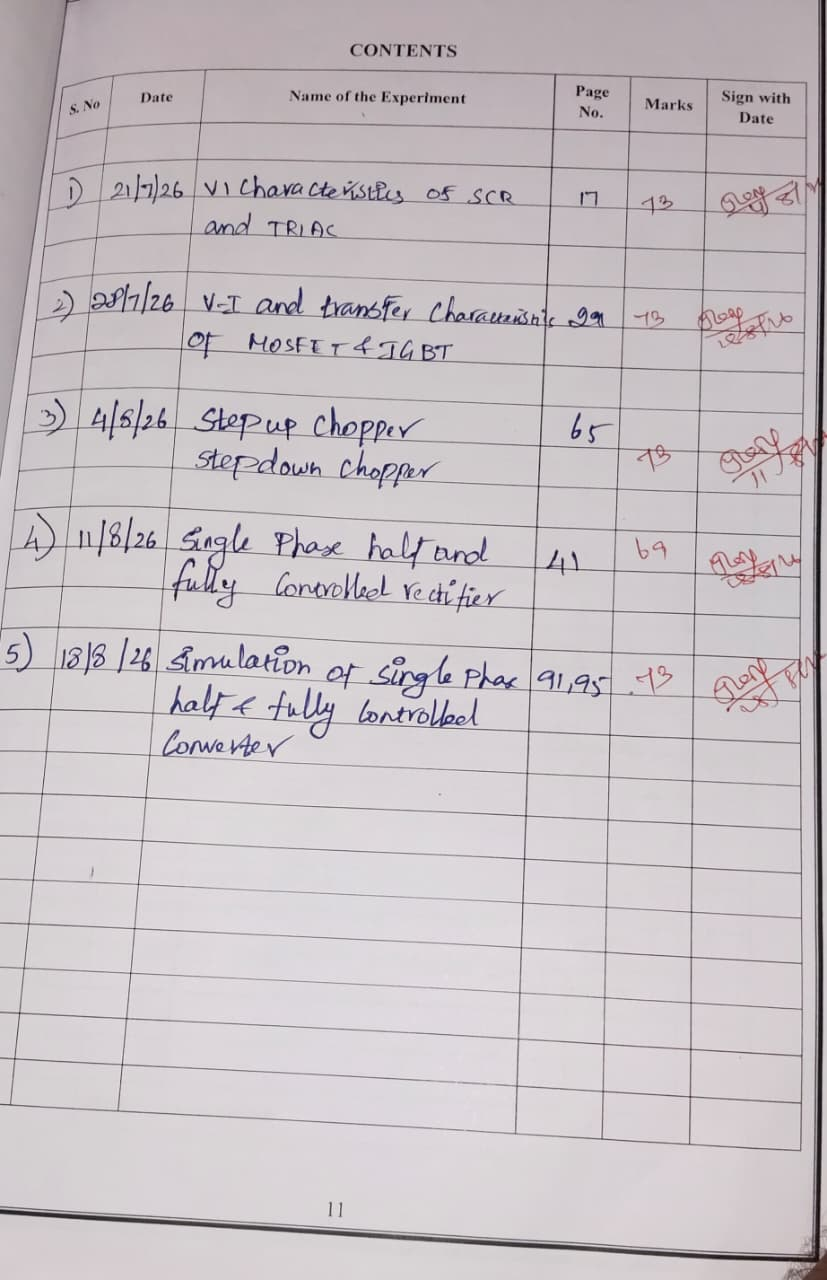contents_mark: (629, 153, 683, 811)
contents_page_number: (545, 155, 604, 788)
contents_row: (52, 26, 822, 134)
experiment_number: (8, 151, 79, 688)
experiment_title: (158, 153, 524, 794)
